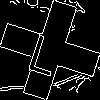L: (25, 25, 66, 77)
